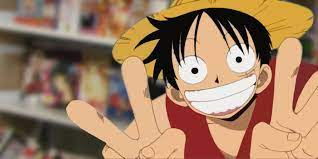luffy: (65, 1, 318, 159)
